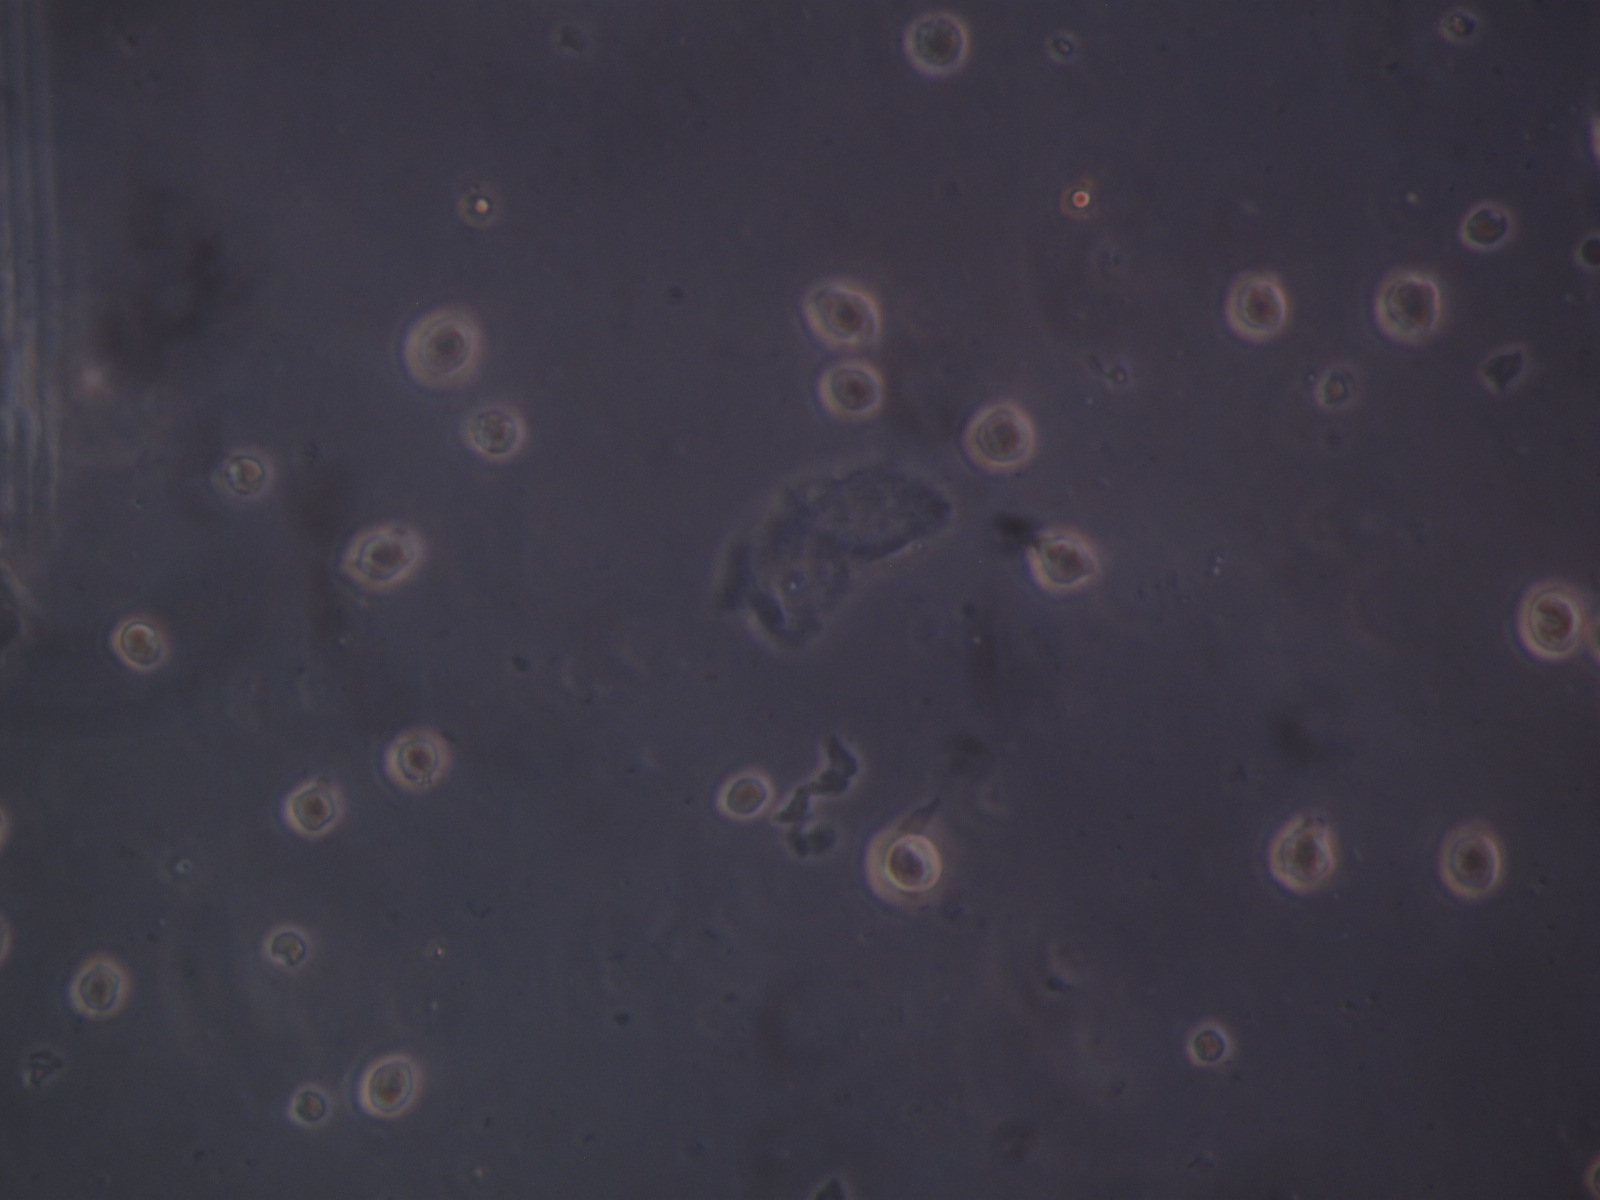hemo: (404, 303, 480, 391), (1516, 576, 1584, 663), (867, 829, 941, 908), (1371, 268, 1443, 344), (963, 398, 1036, 471), (801, 280, 882, 345), (1026, 523, 1100, 594), (344, 524, 420, 592), (1437, 824, 1503, 901), (1225, 271, 1288, 344), (1269, 824, 1335, 892), (386, 729, 452, 794), (902, 13, 969, 76), (819, 359, 884, 421), (357, 1054, 420, 1117), (283, 780, 346, 839), (716, 766, 776, 823), (71, 958, 126, 1020), (467, 405, 527, 460), (111, 616, 169, 672), (1458, 198, 1514, 253), (224, 445, 275, 498), (265, 926, 314, 969), (1187, 1022, 1232, 1066), (289, 1083, 335, 1124), (1317, 364, 1357, 408), (1437, 8, 1483, 47)
